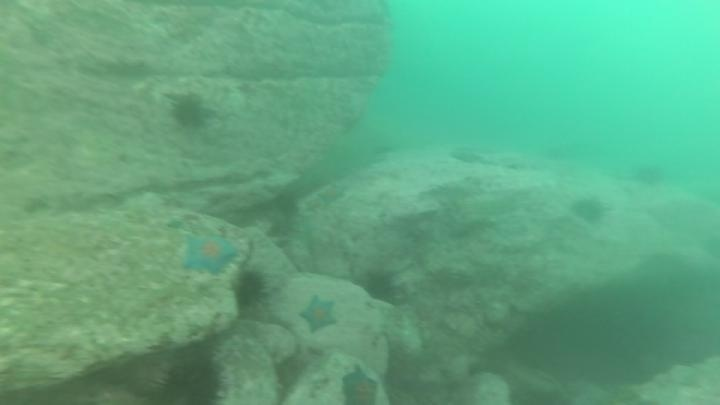echinus: (154, 353, 227, 405), (231, 267, 270, 313), (167, 91, 210, 132), (358, 267, 402, 307), (569, 193, 609, 228), (629, 160, 668, 191)
starfish: (179, 230, 240, 277), (337, 362, 385, 405), (296, 292, 341, 336), (311, 179, 350, 209)
